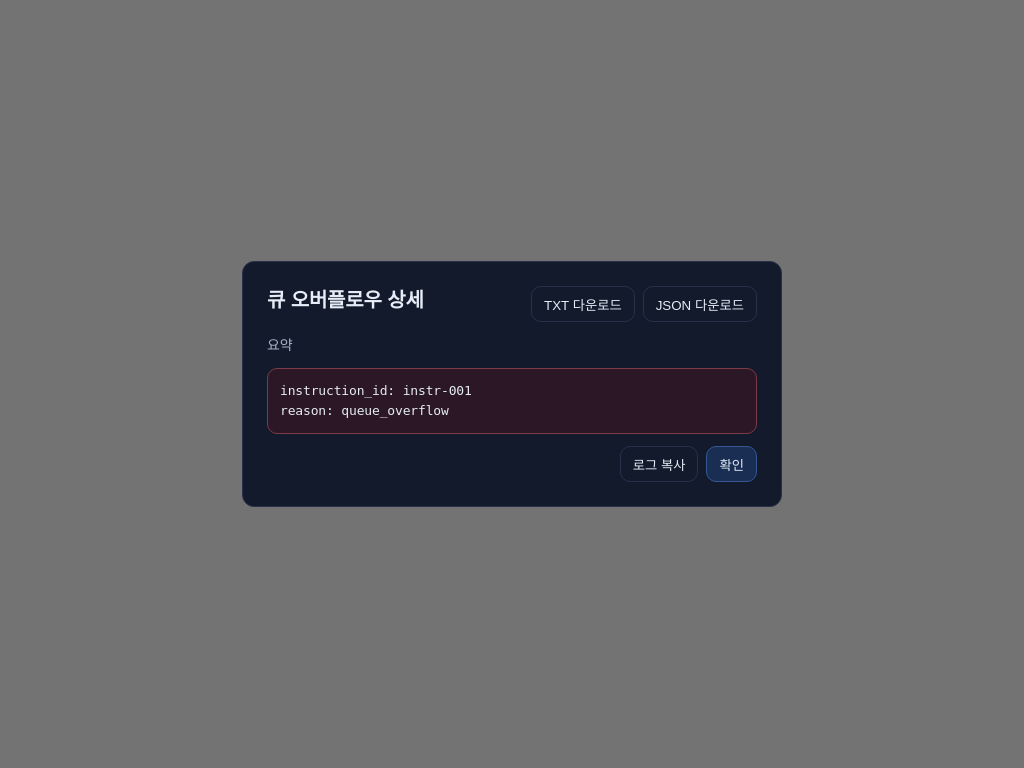
Scenario: ErrorLogModal › 로그 복사 버튼으로 상세 로그를 클립보드에 복사한다
This screenshot has width=1024, height=768.
What coordinates should you click on to do the following:
click the button "로그 복사"
I would click on:
 (659, 464)
Its box is [620, 446, 698, 482].
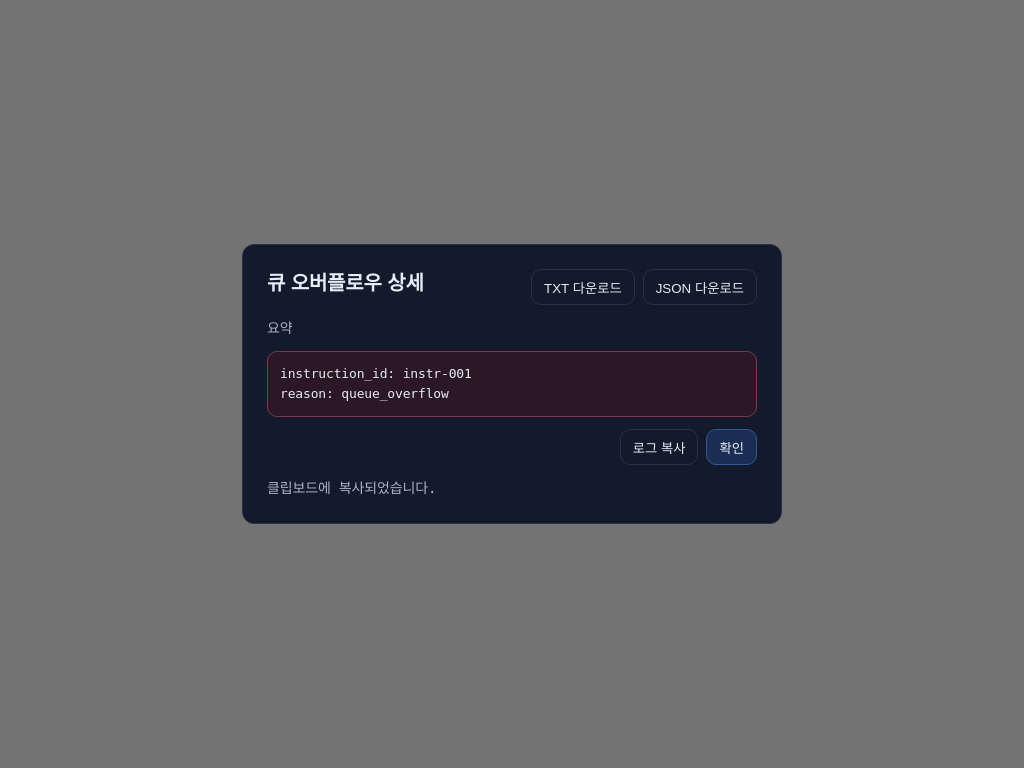
Expected: the text "클립보드에 복사되었습니다." is shown, [267, 480, 436, 496]
